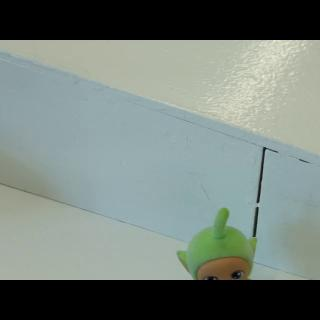teletubby: (177, 208, 256, 280)
